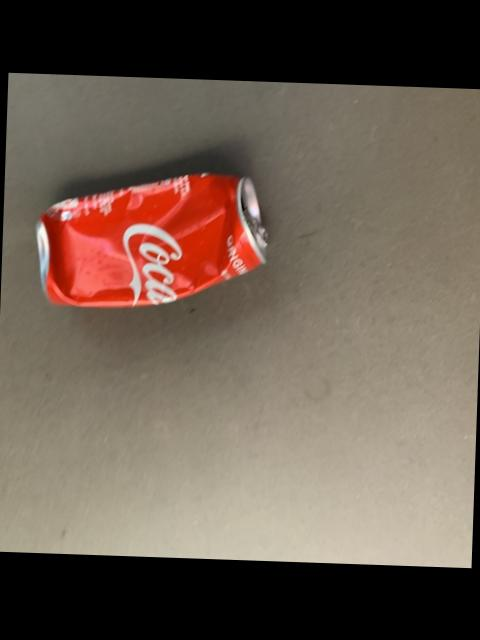metal: (39, 171, 268, 305)
